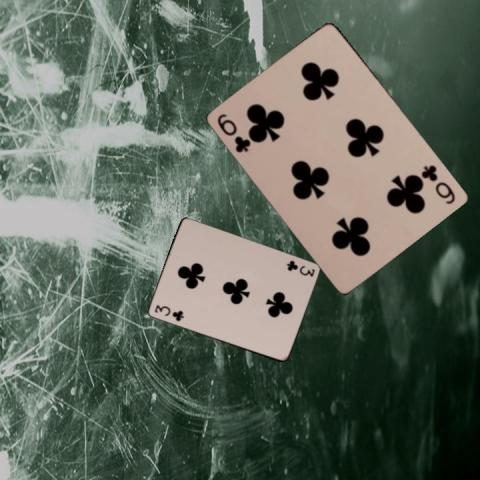3c: (283, 257, 316, 279), (151, 302, 185, 323)
6c: (419, 162, 457, 206), (214, 110, 252, 154)
